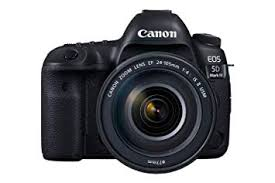camera: (41, 38, 229, 172)
